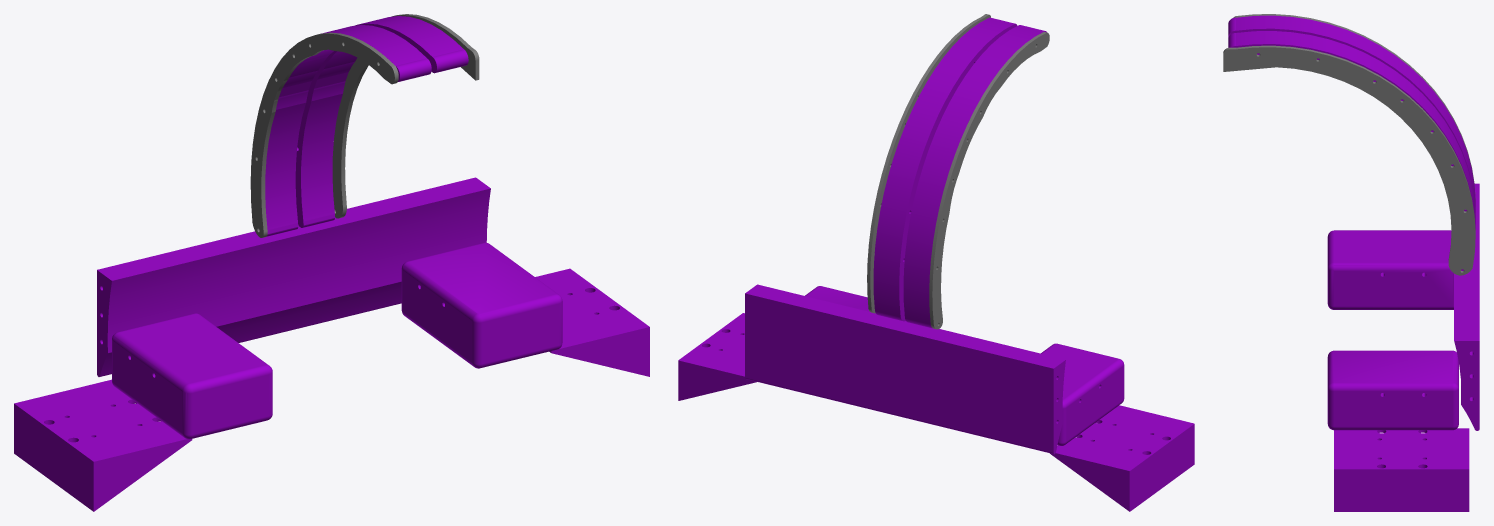
Rendered from transfer.glb.
The picture shows the model from 3 angles, left to right: view 1: azimuth 30°, elevation 25°; view 2: azimuth 150°, elevation 25°; view 3: azimuth 270°, elevation 25°; orthographic projection. The views are drawn at different scales.
Visible parts, largest first — view 1: Part 14.step-1, Part 1-1.step-1; view 2: Part 14.step-1, Part 1-1.step-1; view 3: Part 14.step-1, Part 1-1.step-1.
Part boxes in pixels (x1,y1,x2,y2): Part 14.step-1: (14,16,649,511); Part 1-1.step-1: (250,14,479,237); Part 14.step-1: (678,17,1194,511); Part 1-1.step-1: (867,14,1049,329); Part 14.step-1: (1228,15,1479,511); Part 1-1.step-1: (1223,14,1475,275).
Size of the model in its own units: 0.422 by 0.3135 by 0.1987.
